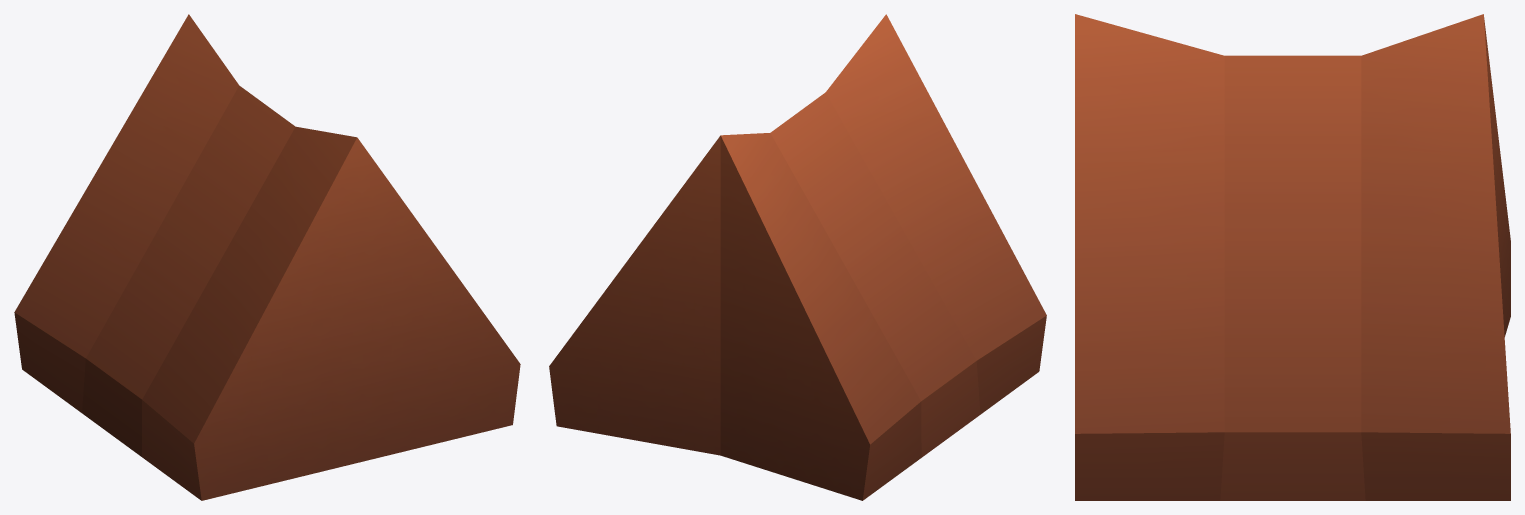
The model's file is Tent_Red.fbx.
3 views of the same model, side by side, from view 1: azimuth 30°, elevation 25°; view 2: azimuth 150°, elevation 25°; view 3: azimuth 270°, elevation 25° (orthographic). The views are drawn at different scales.
Visible parts, largest first — view 1: Cube.019; view 2: Cube.019; view 3: Cube.019.
Part boxes in pixels (x1=…): Cube.019: x1=14, y1=14, x2=520, y2=500; Cube.019: x1=549, y1=14, x2=1046, y2=500; Cube.019: x1=1075, y1=14, x2=1510, y2=500.
Size of the model in its own units: 210 by 200 by 200.
